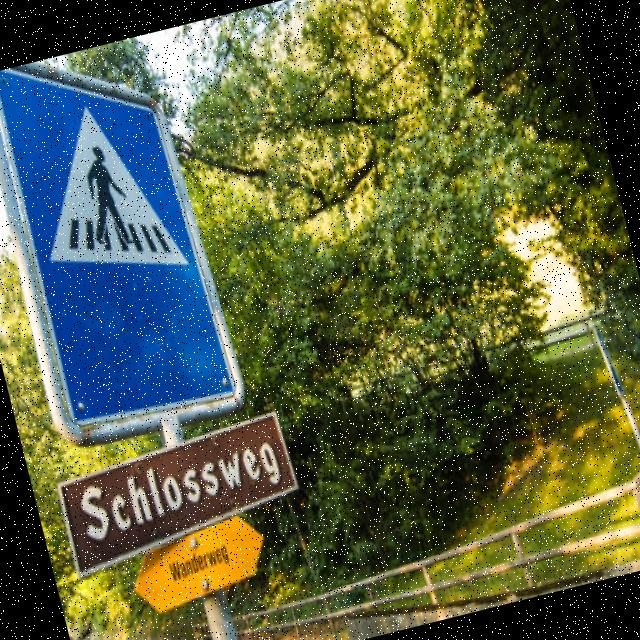crosswalk: (0, 30, 227, 352)
